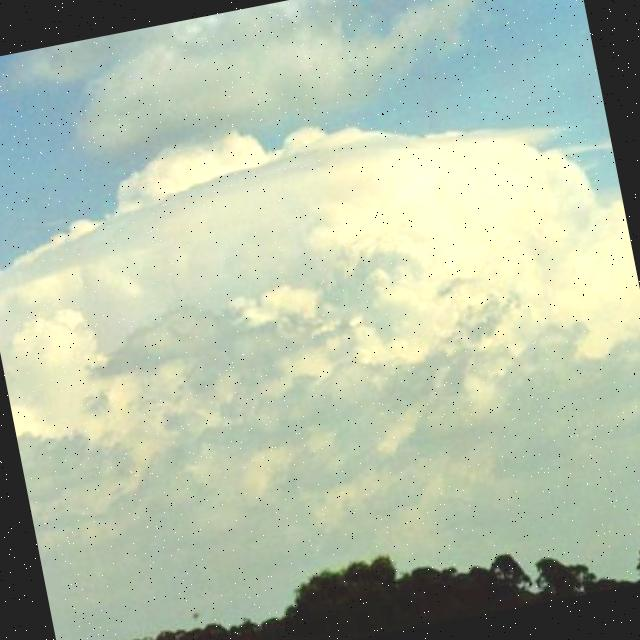Cb: (1, 12, 640, 605)
